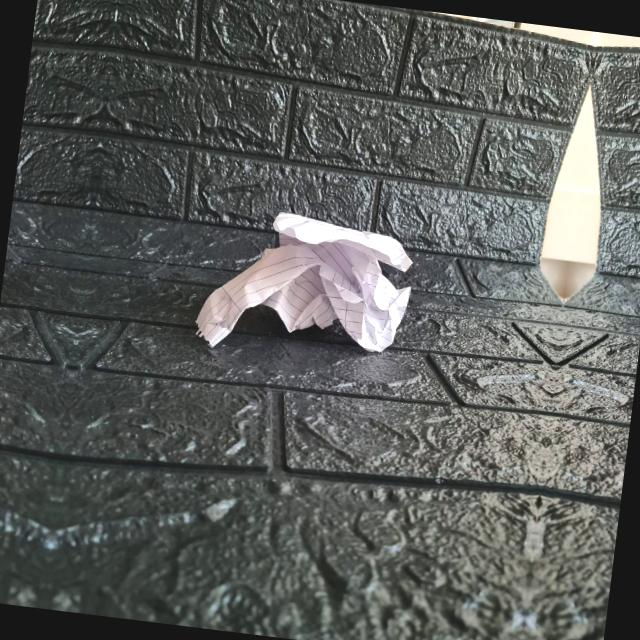paper: (192, 204, 419, 378)
